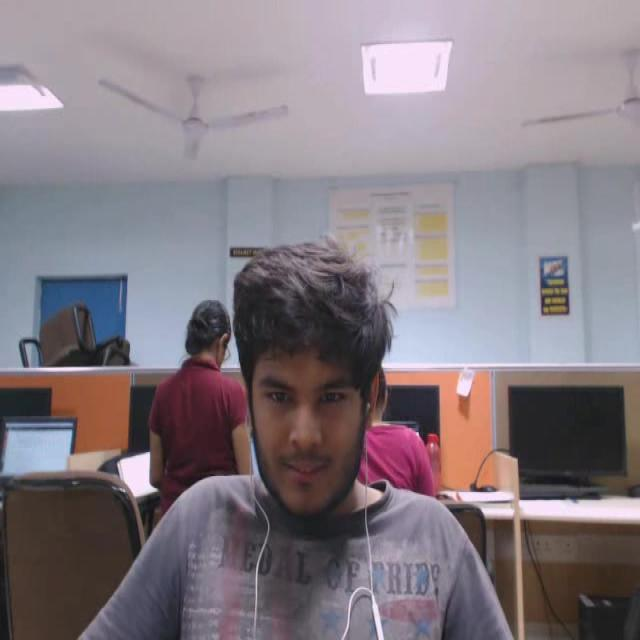Engaged: (199, 229, 439, 540)
